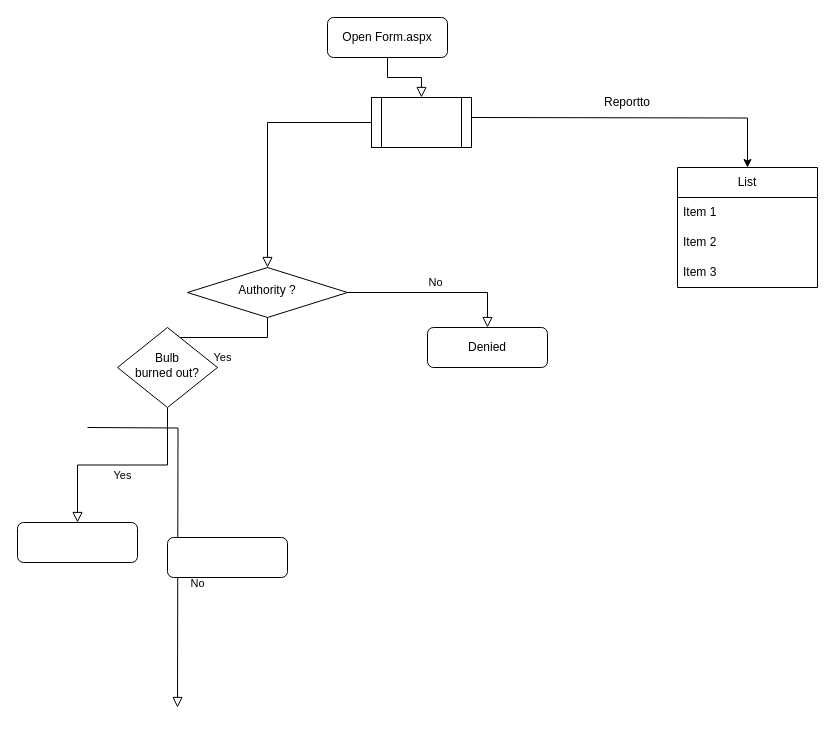
Image size: 835x735. Some labels were removed from this diagram. Each missing label, with the centre of its shape:
"Repair Lamp" goes at pixel 227 557.
"Replace Bulb" goes at pixel 77 542.
"Role" goes at pixel 421 122.
